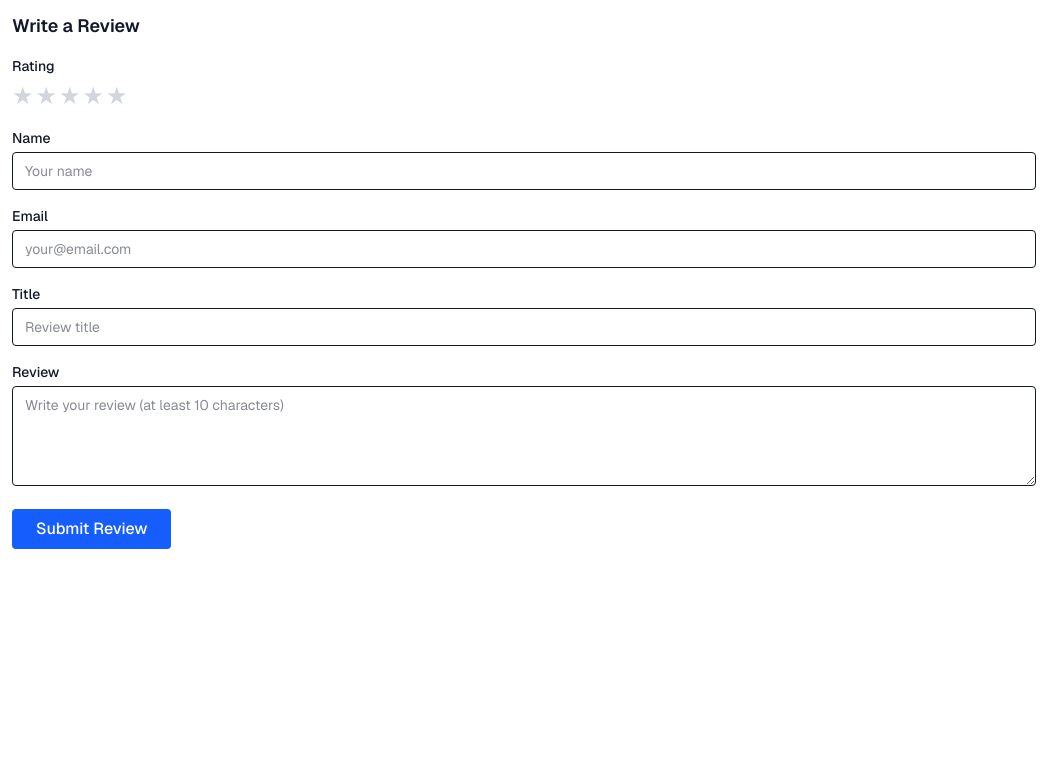
Test: ReviewForm › shows success message and resets form on valid submission
Type "Alice" into the field labelled "Name". click: point(524, 171)
box: x1=12 y1=152 x2=1036 y2=190
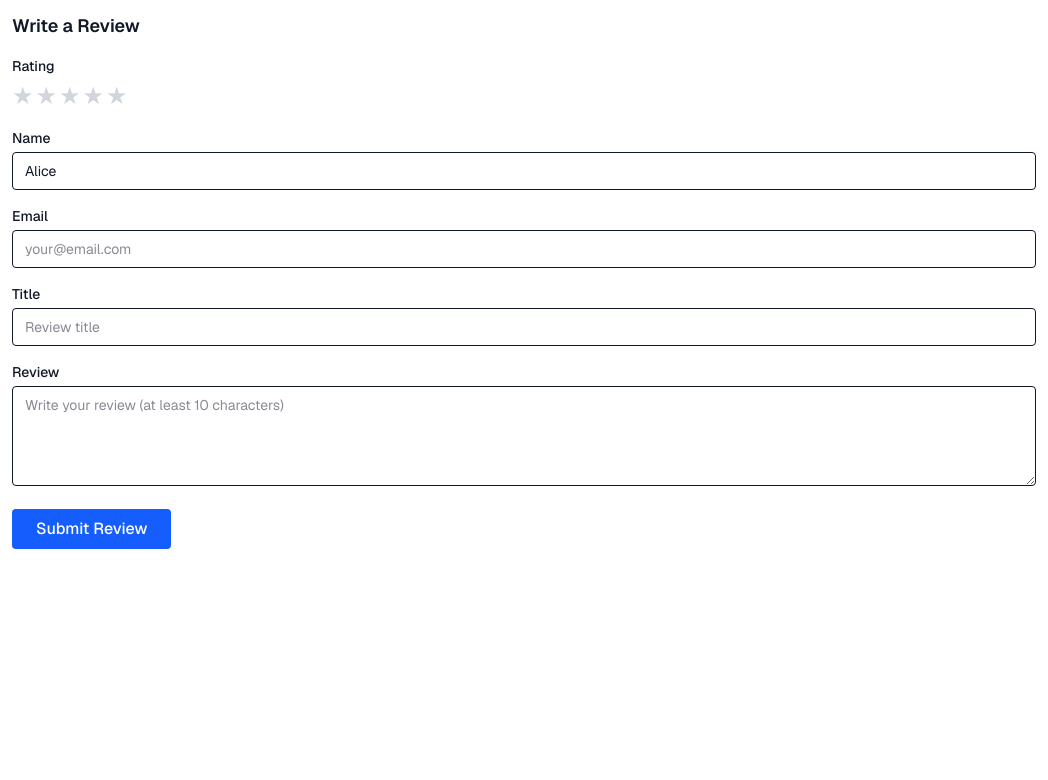
Type "alice@example.com" into the field labelled "Email". click: point(524, 249)
box: x1=12 y1=230 x2=1036 y2=268
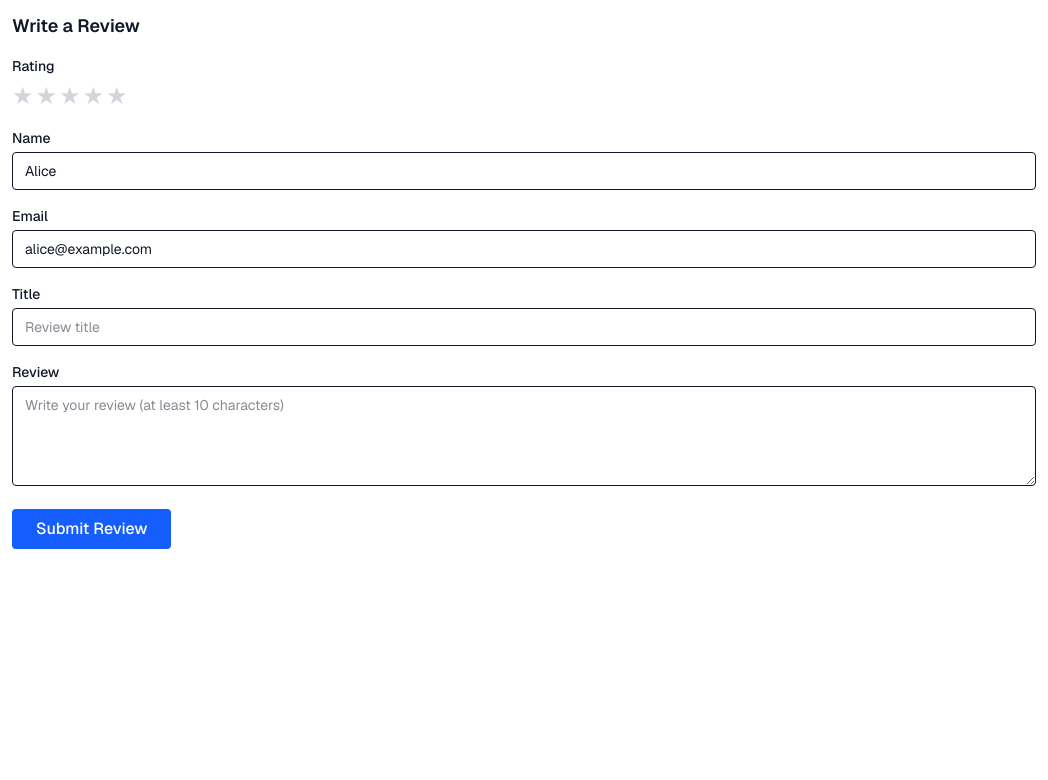
Type "Great product" into the field labelled "Title". click: point(524, 327)
box: x1=12 y1=308 x2=1036 y2=346
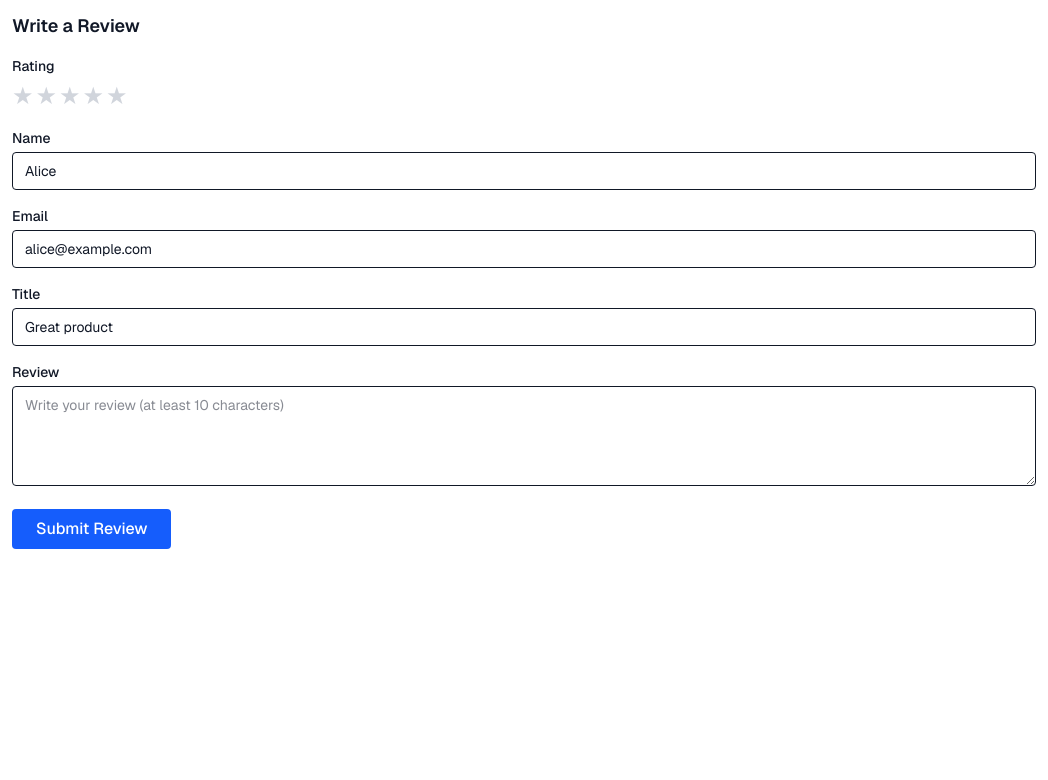
Type "I really enjoyed using this product, highly recommend it." into the text box labelled "Review". click: point(524, 436)
box: x1=12 y1=386 x2=1036 y2=486
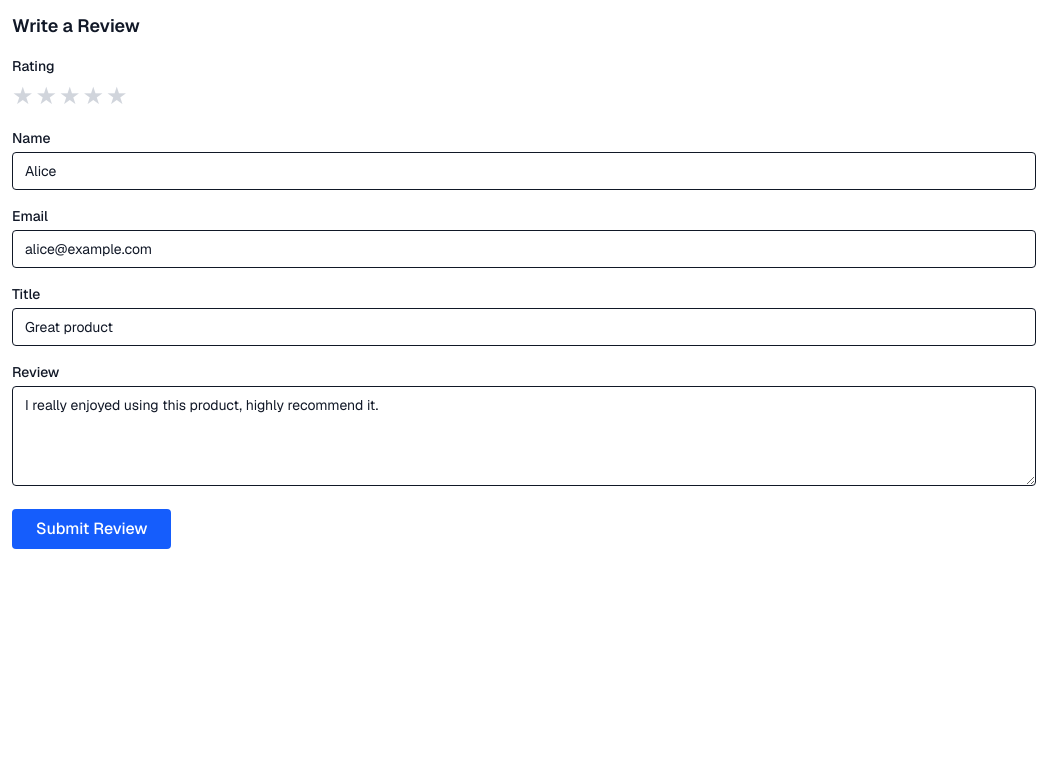
Click the 4th radio button labelled "★". click: point(93, 96)
box: x1=82 y1=80 x2=104 y2=112
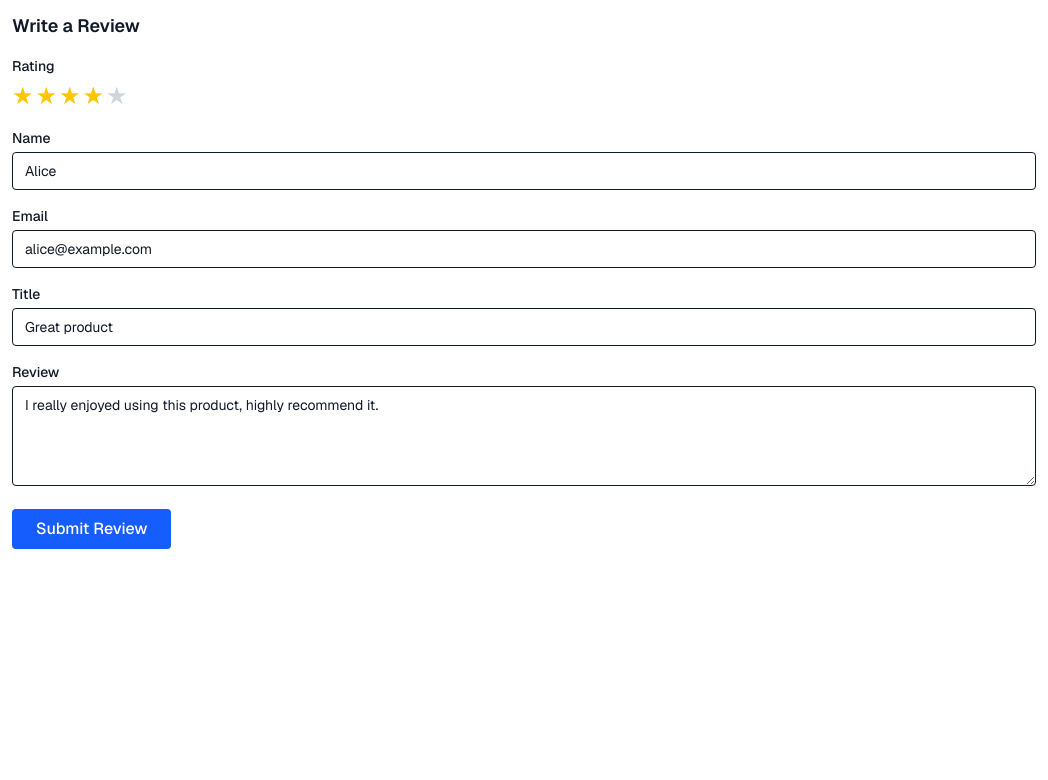
Click the button "Submit Review". click: point(92, 529)
box: x1=12 y1=509 x2=172 y2=549
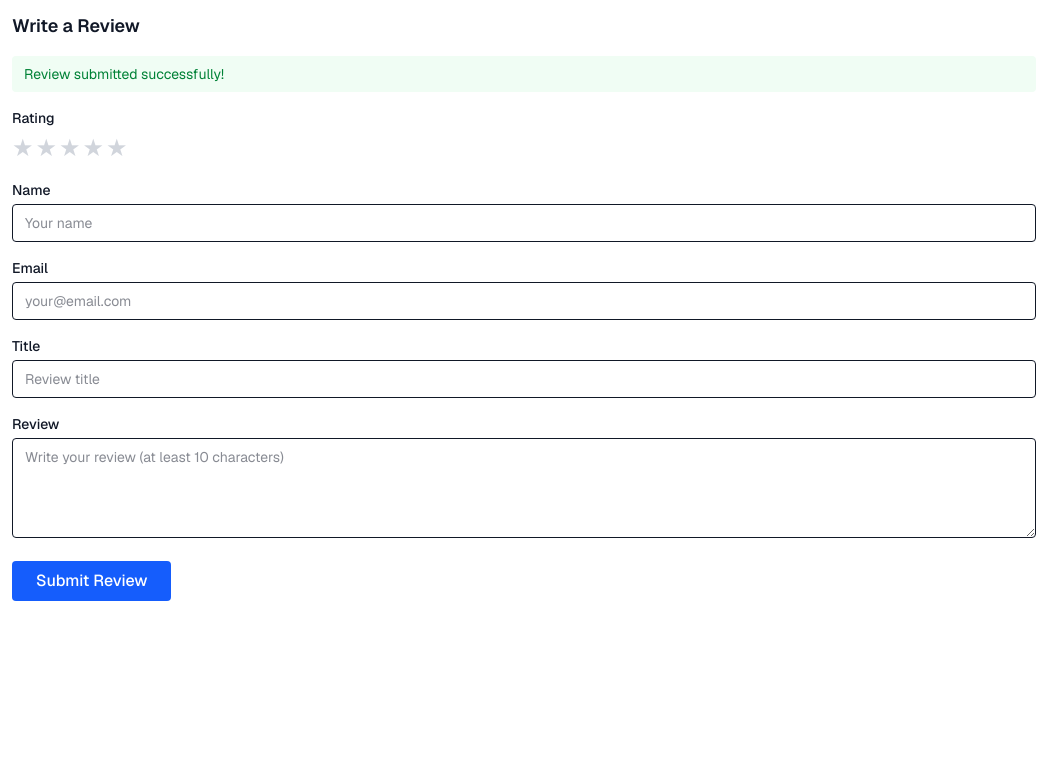
Now the text "Review submitted successfully!" is shown, box x1=12 y1=56 x2=1036 y2=92
Now the field labelled "Name" is empty, box x1=12 y1=204 x2=1036 y2=242
Now the field labelled "Email" is empty, box x1=12 y1=282 x2=1036 y2=320
